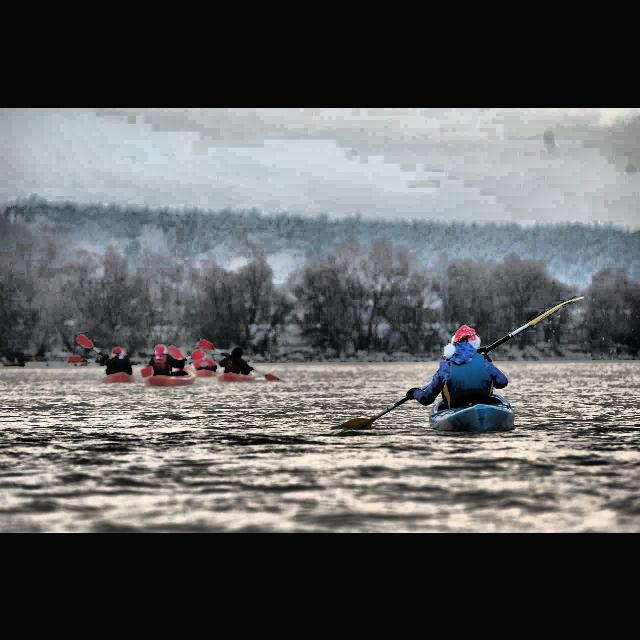kayak: (428, 391, 516, 433), (146, 368, 196, 387), (219, 371, 255, 382), (103, 371, 135, 383), (195, 368, 217, 378)
